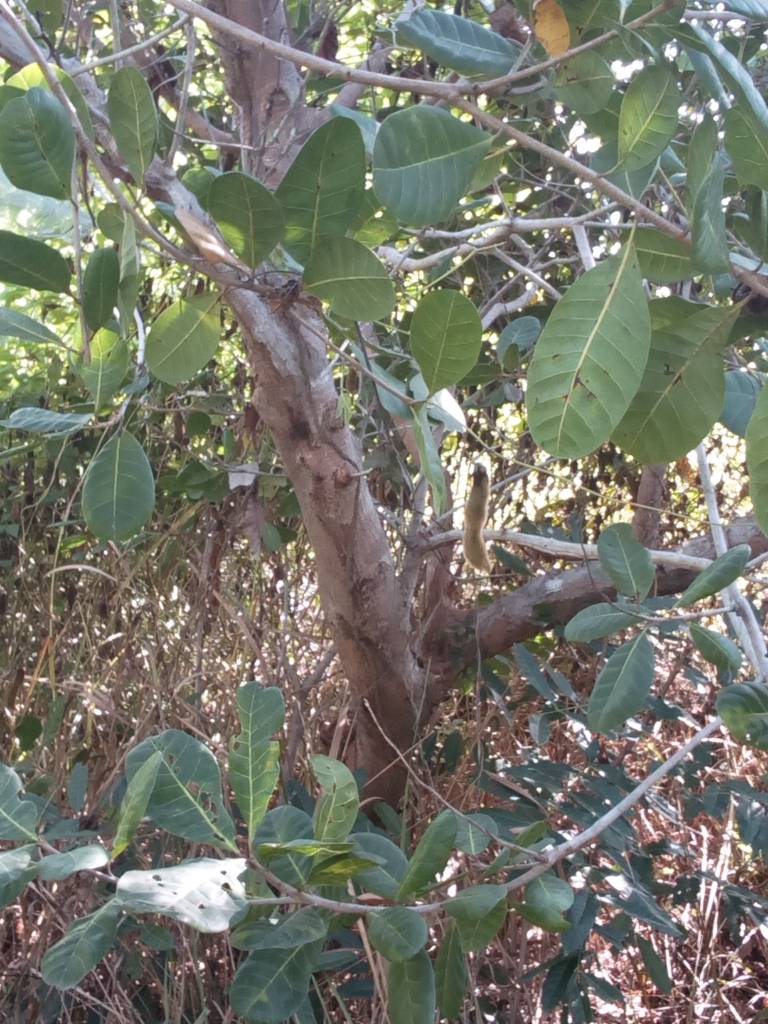Anthracnose: (519, 236, 649, 469)
